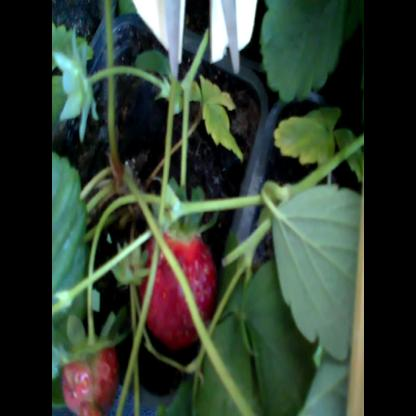ripe: (140, 216, 223, 364), (59, 316, 128, 416)
